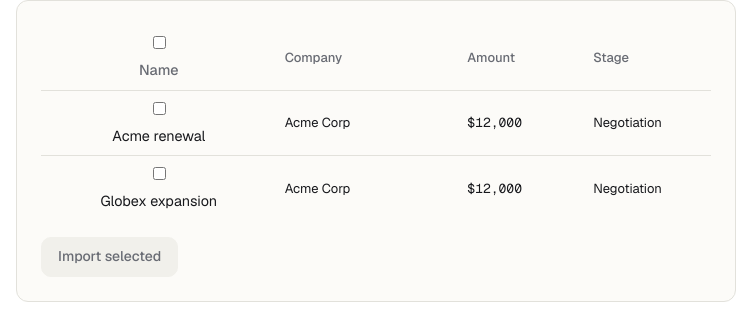
Scenario: CrmDealPicker — deal list › select-all selects every deal, and unselecting one drops it from the count
This screenshot has width=753, height=319.
Click the checkbox named "Select all deals" at (159, 42), box [153,36,166,49]
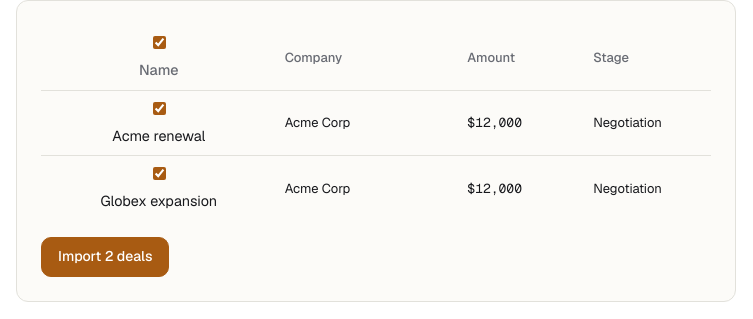
Result: the button "Import 2 deals" is shown at [41,237,170,277]
Click the checkbox named "Select Acme renewal (Acme Corp)" at (159, 108), box [153,102,166,115]
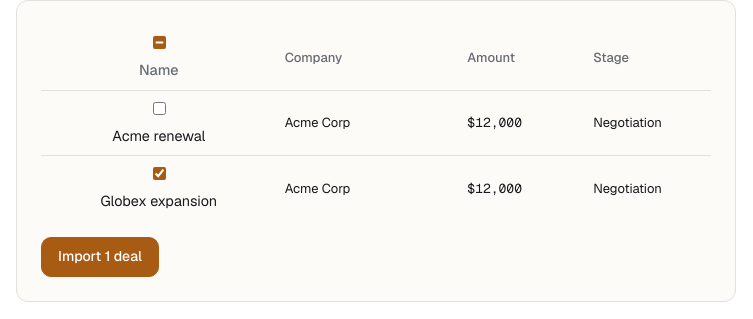
Result: the button "Import 1 deal" is shown at [41,237,159,277]
